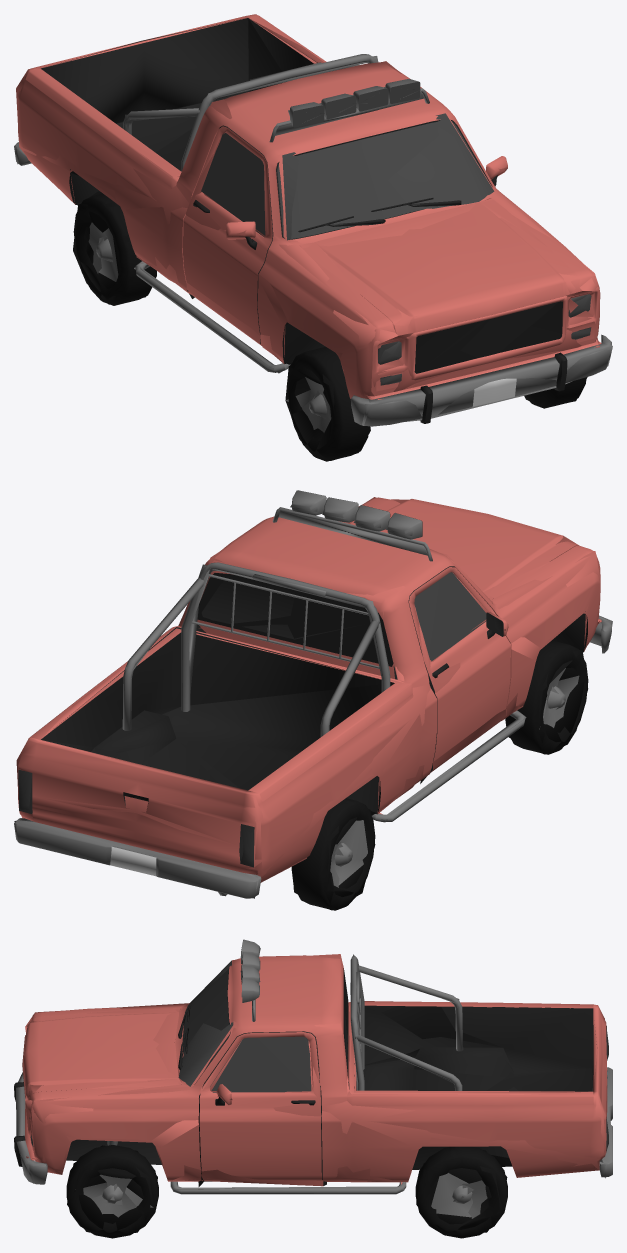
File: PickUp.fbx
3 renders of one model, top to bottom at view 1: azimuth 30°, elevation 25°; view 2: azimuth 150°, elevation 25°; view 3: azimuth 270°, elevation 25°, orthographic. The views are drawn at different scales.
Visible parts, largest first — view 1: PickUp, PickUp Lod; view 2: PickUp, PickUp Lod; view 3: PickUp, PickUp Lod.
Boxes of the visible parts, box(x1,y1,x2,y2) form: PickUp: box(14, 14, 611, 461); PickUp Lod: box(14, 14, 612, 460); PickUp: box(14, 490, 611, 910); PickUp Lod: box(14, 490, 612, 910); PickUp: box(14, 939, 612, 1238); PickUp Lod: box(16, 940, 610, 1236).
Bounding box in the file's own units: 462 × 430 × 1032.
